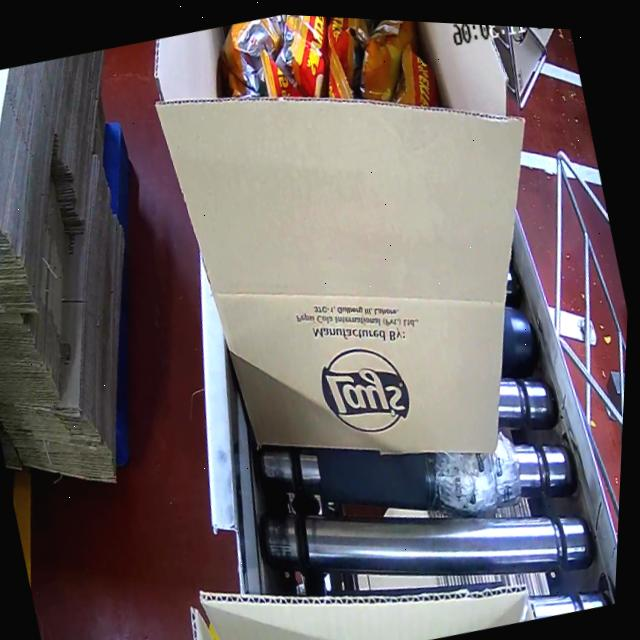FRENCH_CHEESE: (177, 9, 448, 162)
